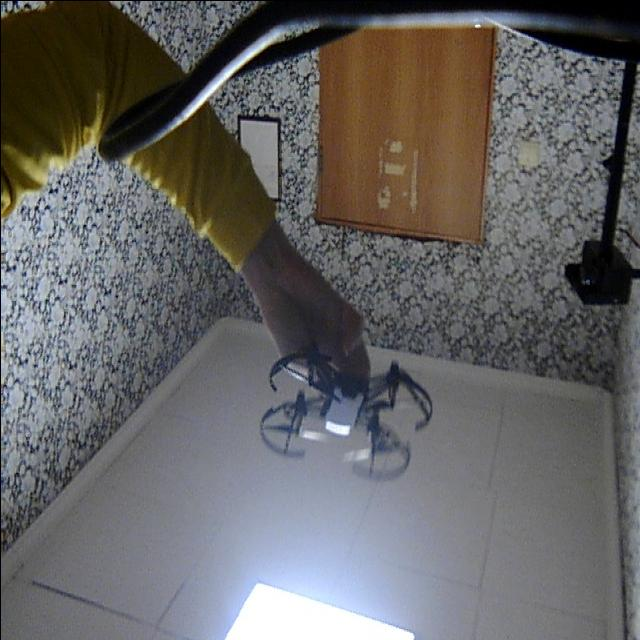drone: (246, 339, 440, 498)
